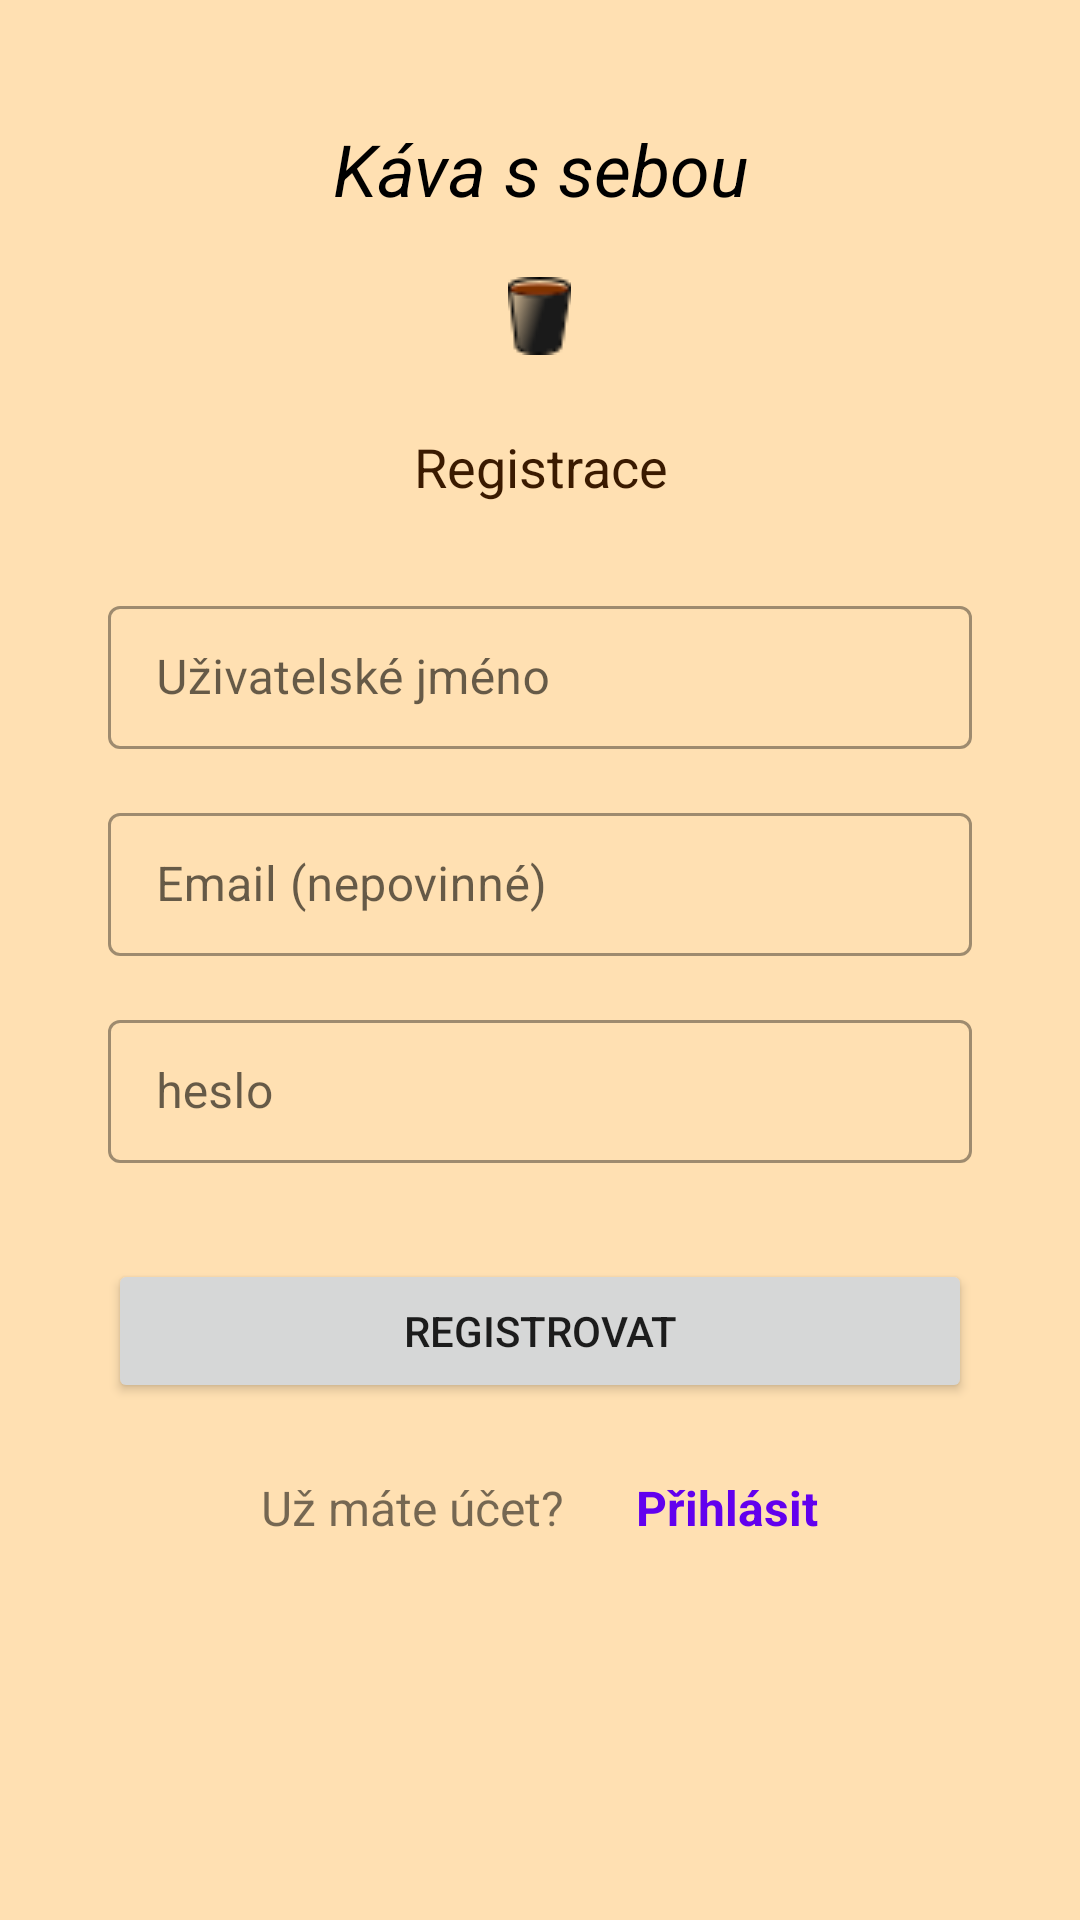

Named icons in this screenshot (1080px x 1920px) and their bounding boxes, (x1, y1, x2, y2):
cup basic: (508, 277, 571, 355)
